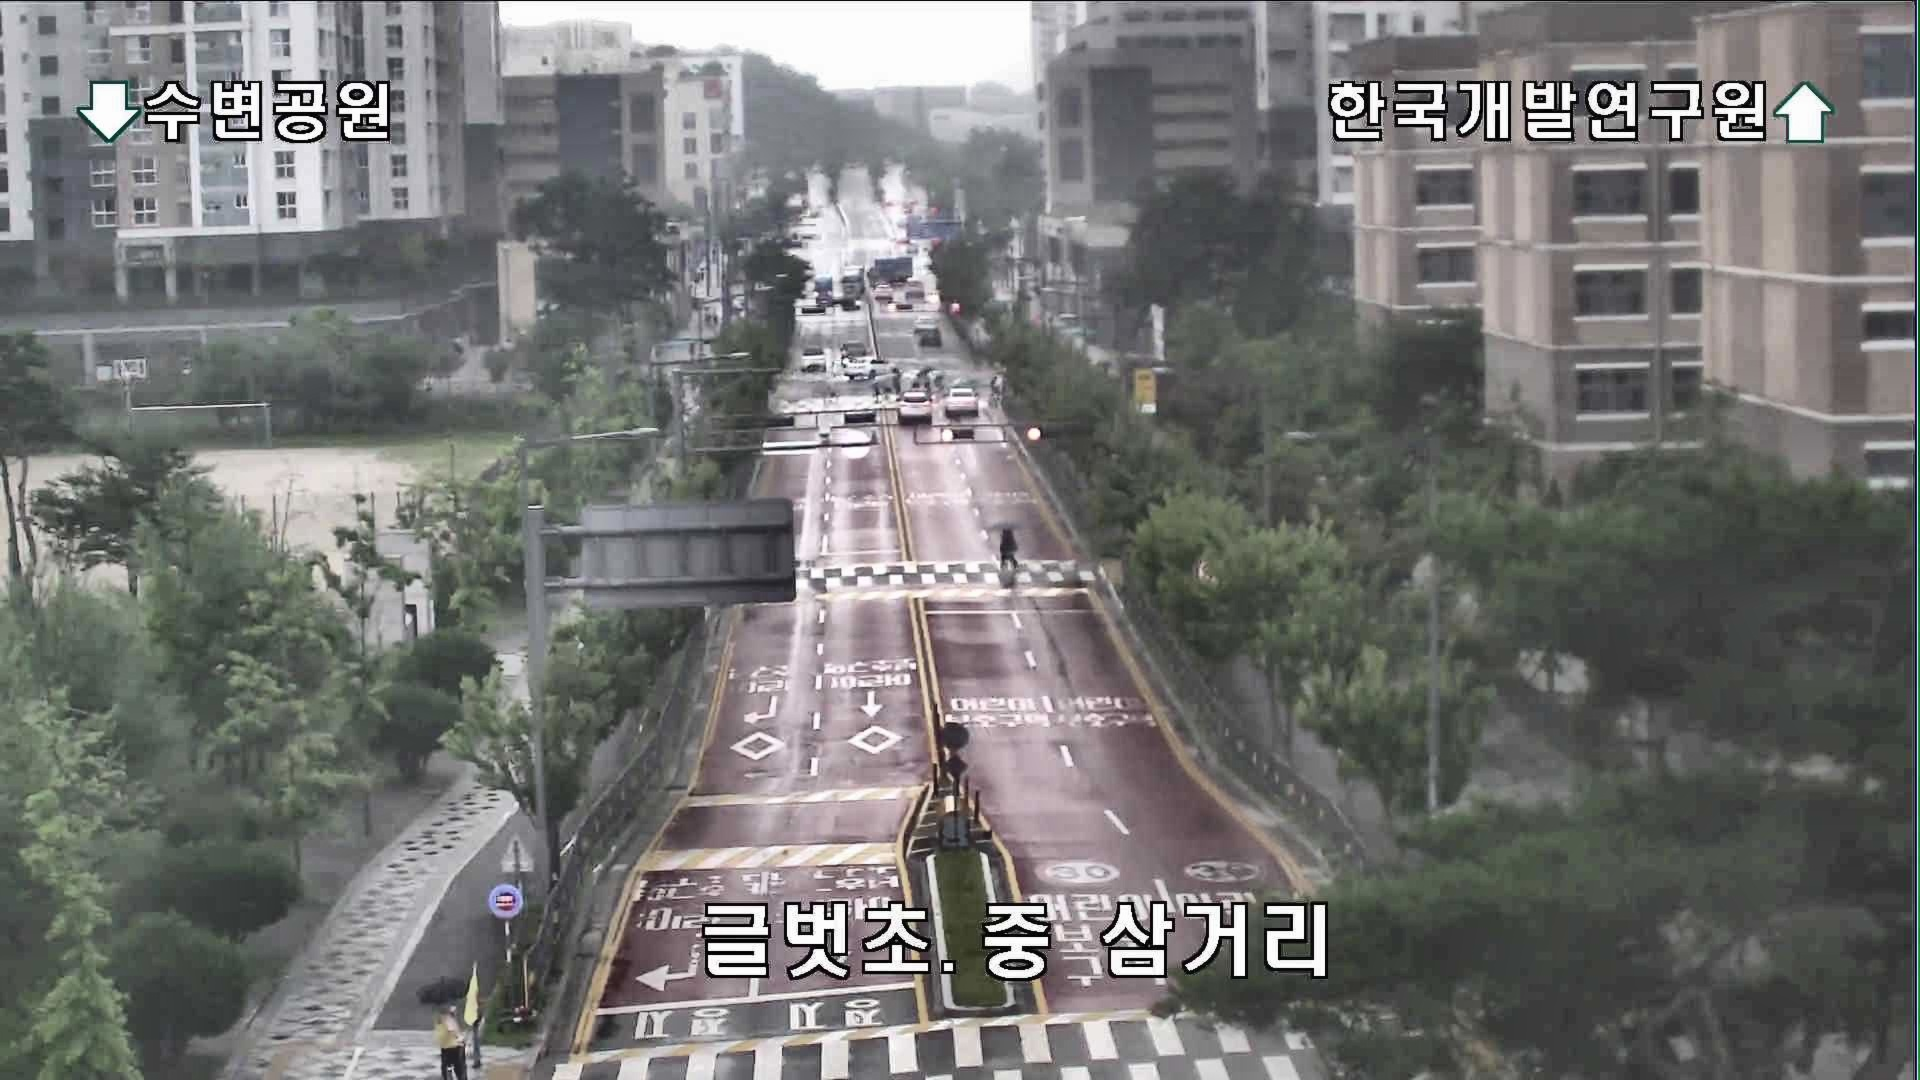um_crosswalk: (982, 518, 1026, 574)
um_sidewalk: (411, 975, 471, 1080)
